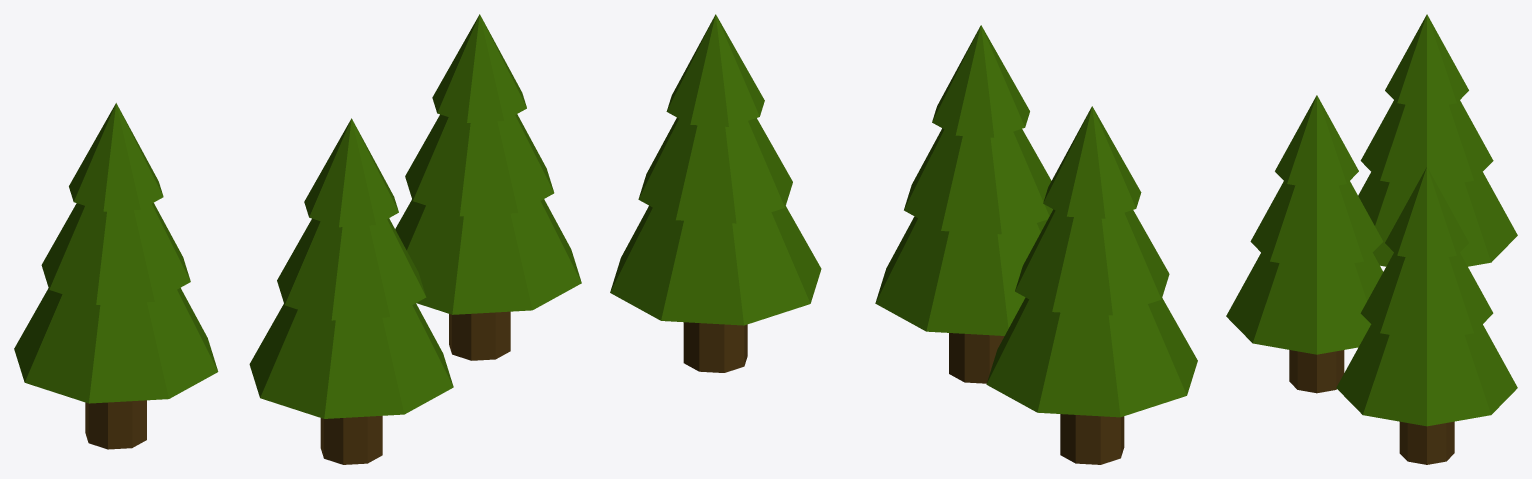
Rendered from CartoonTree.glb.
3 renders of one model, left to right at view 1: azimuth 30°, elevation 25°; view 2: azimuth 150°, elevation 25°; view 3: azimuth 270°, elevation 25°, orthographic. The views are drawn at different scales.
Visible parts, largest first — view 1: Cone.008, Cone, Cone.014, Cone.013, Cone.007, Cone.001, Cone.006, Cone.002, Cone.012, Cylinder, Cylinder.004, Cylinder.002; view 2: Cone.014, Cone.008, Cone, Cone.007, Cone.013, Cone.001, Cone.012, Cone.006, Cone.002, Cylinder.004, Cylinder.002, Cylinder; view 3: Cone.014, Cone, Cone.013, Cone.001, Cone.007, Cone.008, Cone.006, Cone.002, Cone.012, Cylinder.004, Cylinder.
Boxes of the visible parts, left/top/right/bottom form: Cone.008: left=14, top=288, right=218, bottom=403; Cone: left=249, top=303, right=453, bottom=418; Cone.014: left=395, top=199, right=581, bottom=314; Cone.013: left=405, top=114, right=554, bottom=216; Cone.007: left=41, top=203, right=190, bottom=304; Cone.001: left=277, top=218, right=426, bottom=320; Cone.006: left=69, top=103, right=163, bottom=211; Cone.002: left=304, top=118, right=398, bottom=227; Cone.012: left=432, top=14, right=526, bottom=122; Cylinder: left=320, top=415, right=382, bottom=464; Cylinder.004: left=449, top=311, right=510, bottom=360; Cylinder.002: left=85, top=400, right=146, bottom=449; Cone.014: left=610, top=205, right=821, bottom=325; Cone.008: left=986, top=297, right=1197, bottom=417; Cone: left=875, top=216, right=1047, bottom=335; Cone.007: left=1015, top=209, right=1169, bottom=315; Cone.013: left=638, top=117, right=792, bottom=223; Cone.001: left=904, top=128, right=1052, bottom=234; Cone.012: left=666, top=14, right=764, bottom=126; Cone.006: left=1043, top=106, right=1141, bottom=218; Cone.002: left=932, top=25, right=1029, bottom=137; Cylinder.004: left=683, top=322, right=747, bottom=372; Cylinder.002: left=1060, top=414, right=1124, bottom=464; Cylinder: left=949, top=333, right=1004, bottom=383; Cone.014: left=1336, top=324, right=1517, bottom=426; Cone: left=1226, top=253, right=1382, bottom=354; Cone.013: left=1360, top=253, right=1493, bottom=341; Cone.001: left=1250, top=181, right=1383, bottom=269; Cone.007: left=1360, top=100, right=1493, bottom=186; Cone.008: left=1358, top=172, right=1517, bottom=266; Cone.006: left=1385, top=14, right=1468, bottom=108; Cone.002: left=1275, top=95, right=1358, bottom=188; Cone.012: left=1385, top=167, right=1468, bottom=260; Cylinder.004: left=1399, top=421, right=1454, bottom=464; Cylinder: left=1289, top=350, right=1344, bottom=393.
Size of the model in its own units: 12.45 by 7.49 by 6.7.
